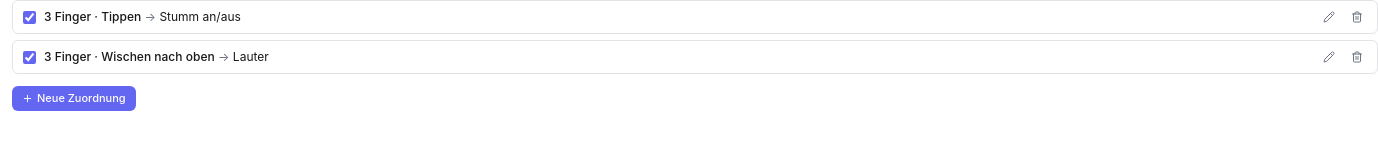
Scenario: GestureBindingsSection › shows the backend's refusal
Click the checkbox named "3 Finger · Tippen aktiv". click: (30, 17)
box: left=23, top=10, right=36, bottom=24
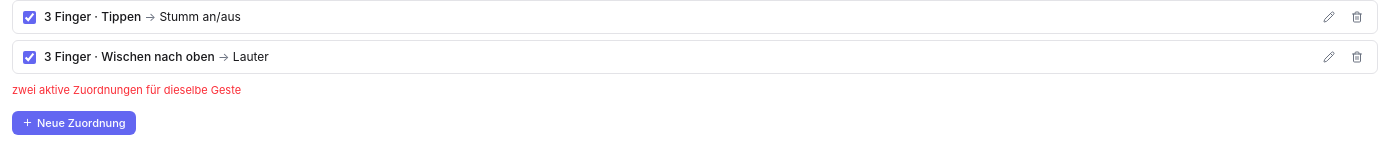
Result: the text "zwei aktive Zuordnungen für dieselbe Geste" is shown at left=12, top=83, right=241, bottom=97
